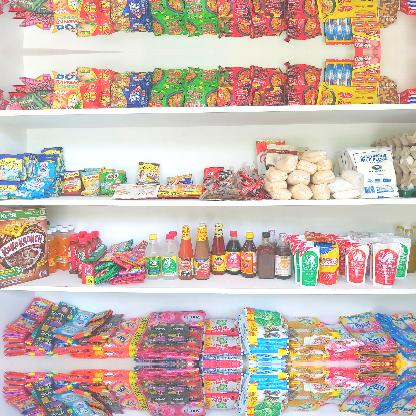Koko-Krunch: (0, 205, 52, 289)
